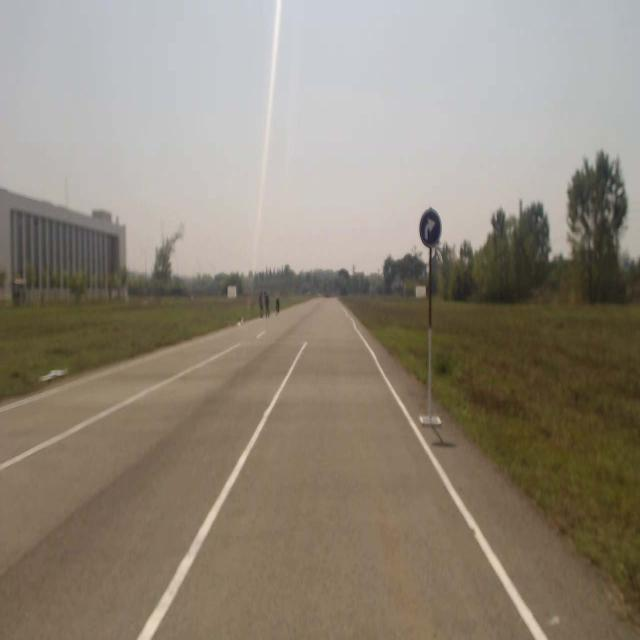sag: (421, 208, 442, 248)
